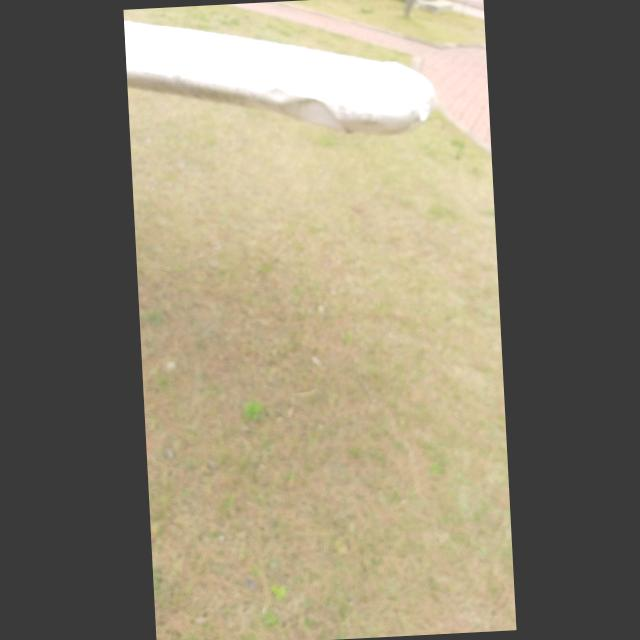dent: (282, 94, 350, 132), (262, 83, 292, 105)
